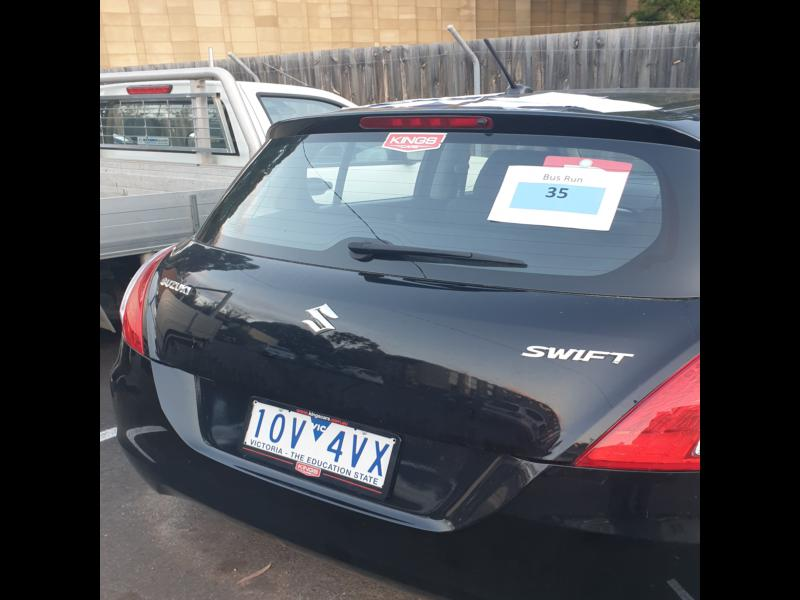BusRun: (508, 181, 606, 216)
PlateNo: (244, 393, 393, 488)
